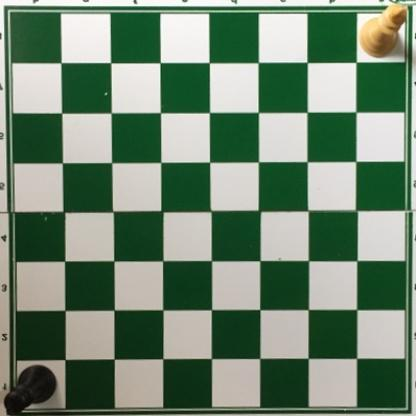black-king: (4, 364, 60, 416)
white-king: (357, 3, 408, 59)
